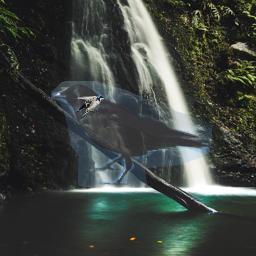Crow: (51, 81, 212, 187)
Swallow: (73, 95, 105, 119)
